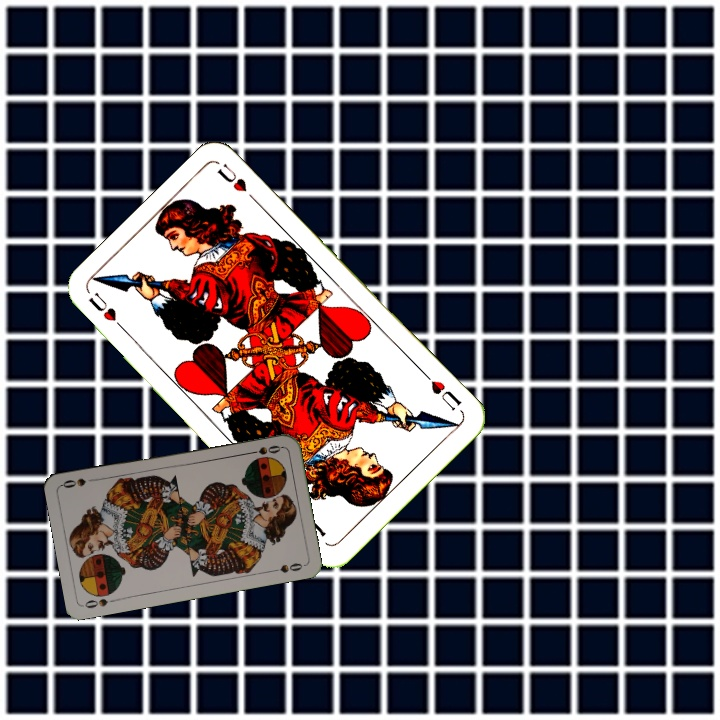HU: (84, 288, 131, 336), (419, 368, 464, 413)
SO: (81, 594, 120, 611), (244, 441, 284, 457)
